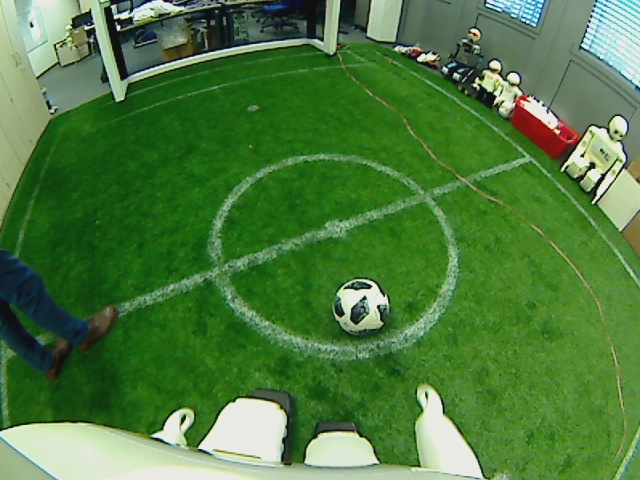ball: (331, 276, 392, 335)
